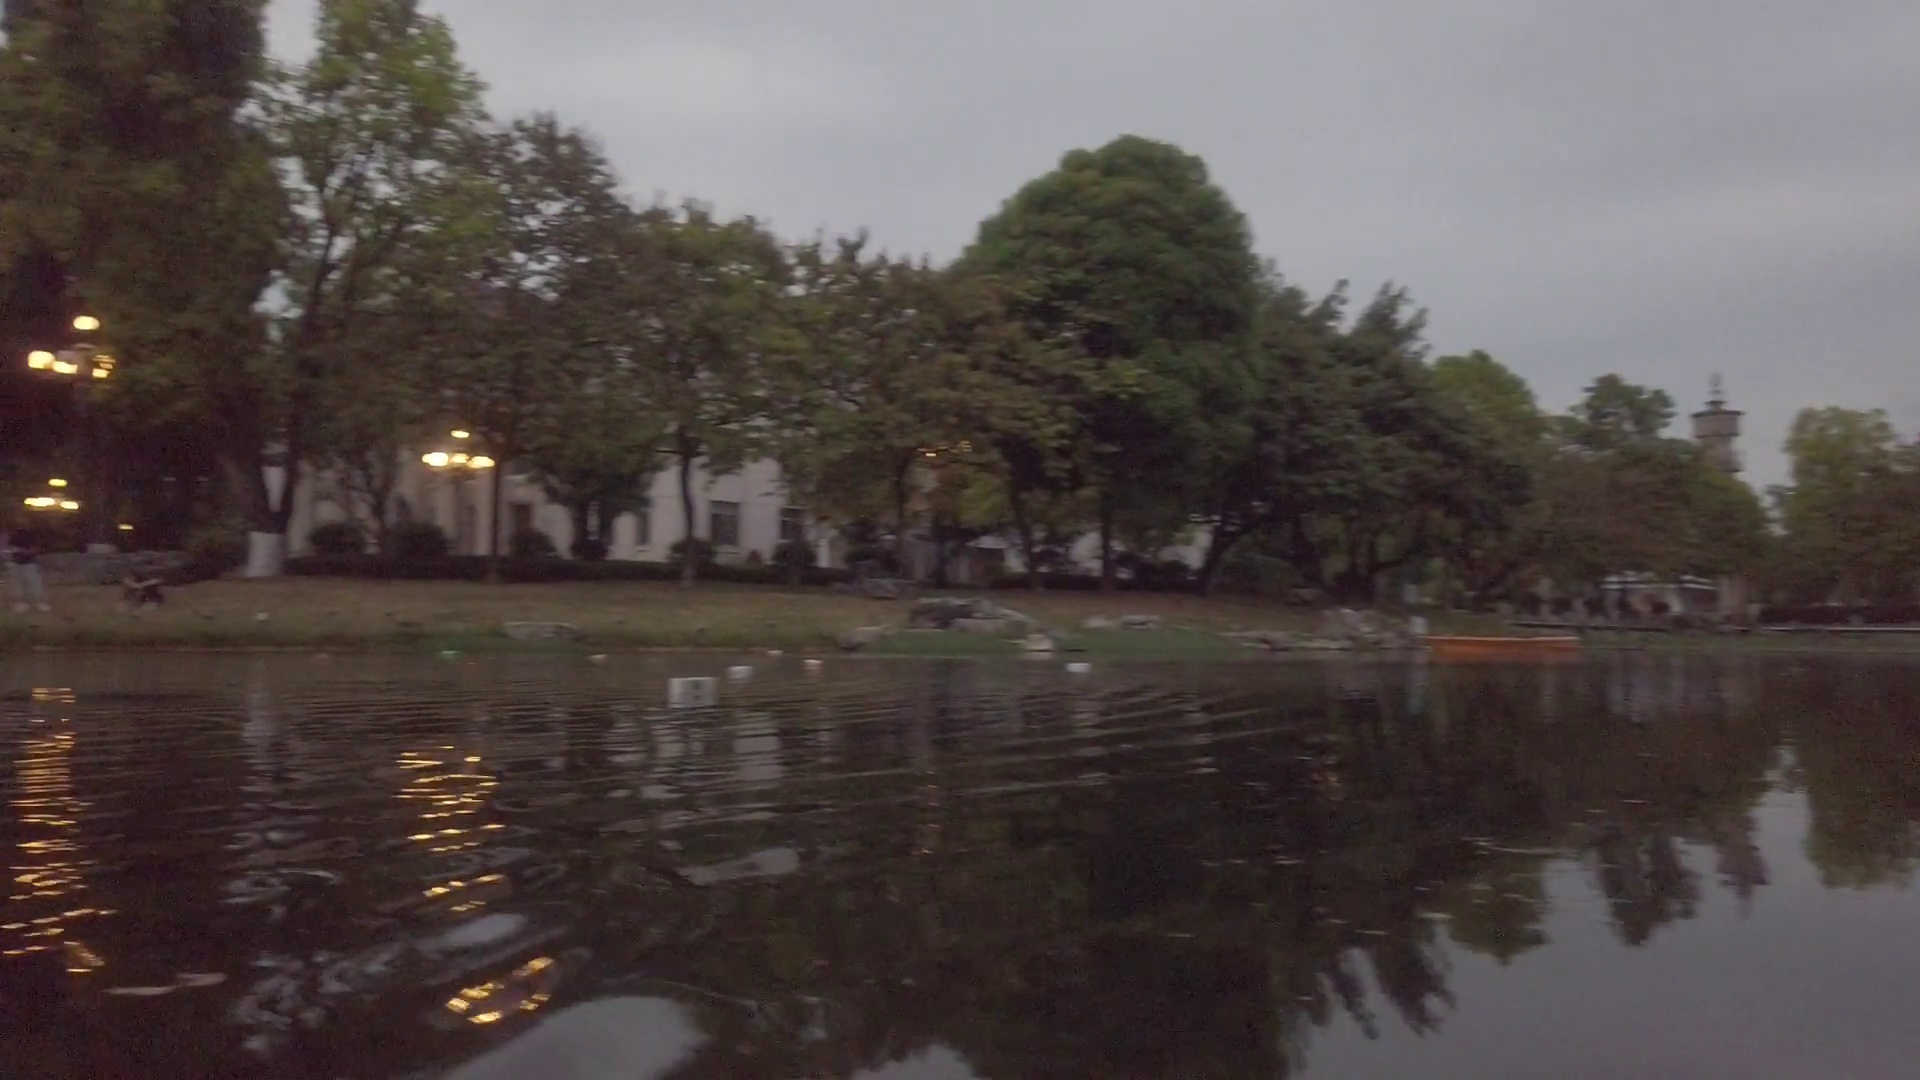bottle: (435, 646, 469, 662), (795, 655, 831, 669), (305, 647, 328, 667), (587, 651, 608, 665), (765, 647, 783, 661)
carton: (670, 673, 717, 695), (724, 662, 750, 678), (1064, 661, 1091, 675)
